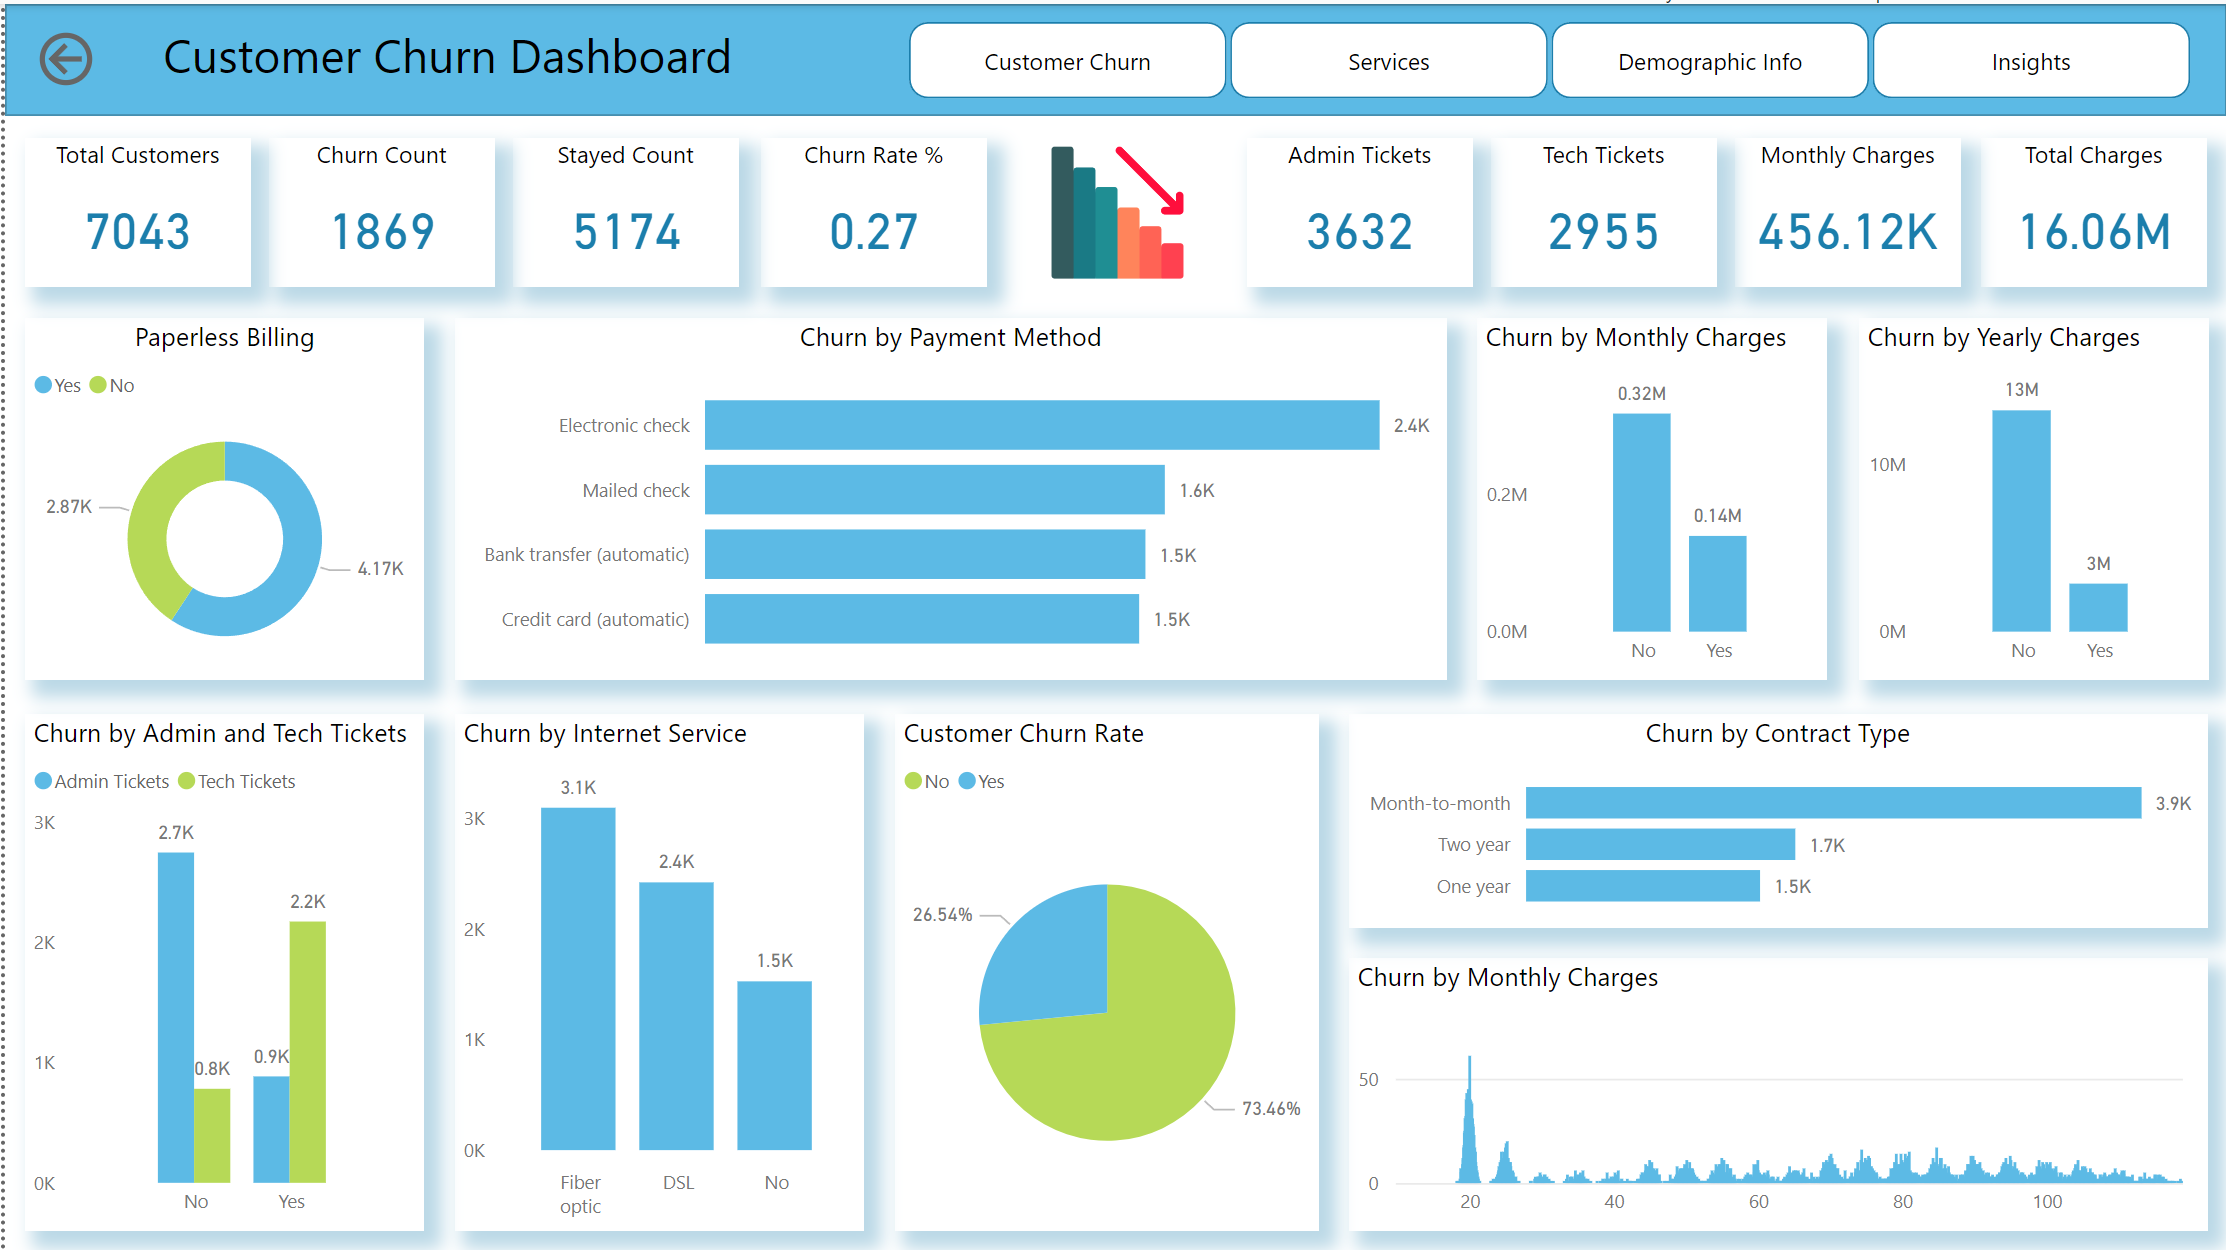

This screenshot's page, from the dashboard's own definition file:
{"tool":"powerbi","page":{"name":"Customer Churn","canvas":[1280,720],"ordinal":1},"visuals":[{"type":"shape","box":[0,0,1279.7,64.5],"z":0},{"type":"actionButton","box":[15.2,11.6,43.9,40.3],"z":1000},{"type":"textbox","box":[76.1,5.4,358.2,53.7],"z":2000},{"type":"pageNavigator","box":[521.2,9.9,738.8,44.8],"z":3000},{"type":"card","title":"Total Customers","fields":{"Values":["CountNonNull(01 Churn-Dataset.customerID)"]},"box":[11.6,77,129.9,86],"z":4000,"group":"g1"},{"type":"clusteredBarChart","title":"Churn by Contract Type","fields":{"Y":["CountNonNull(01 Churn-Dataset.Churn)"],"Category":["01 Churn-Dataset.Contract"]},"box":[773.7,409.3,494.3,123.6],"z":4000},{"type":"card","title":"Churn Count","fields":{"Values":["CountNonNull(01 Churn-Dataset.Churn)"]},"box":[152.2,77,129.9,86],"z":5000,"group":"g1"},{"type":"clusteredColumnChart","title":"Churn by Admin and Tech Tickets","fields":{"Category":["01 Churn-Dataset.Churn"],"Y":["Sum(01 Churn-Dataset.numAdminTickets)","Sum(01 Churn-Dataset.numTechTickets)"]},"box":[11.6,409.3,230.1,298.2],"z":5000},{"type":"card","title":"Stayed Count","fields":{"Values":["CountNonNull(01 Churn-Dataset.Churn)"]},"box":[292.8,77,129.9,86],"z":6000,"group":"g1"},{"type":"group","id":"g1","title":"Group 1","box":[11.6,77,1256.4,86],"z":6000},{"type":"card","title":"Churn Rate %","fields":{"Values":["01 Churn-Dataset.Churn Rate%"]},"box":[435.2,77,129.9,86],"z":7000,"group":"g1"},{"type":"clusteredBarChart","title":"Churn by Payment Method","fields":{"Y":["CountNonNull(01 Churn-Dataset.Churn)"],"Category":["01 Churn-Dataset.PaymentMethod"]},"box":[258.8,180.9,571.3,208.7],"z":7000},{"type":"card","title":"Admin Tickets","fields":{"Values":["Sum(01 Churn-Dataset.numAdminTickets)"]},"box":[715.5,77,129.9,86],"z":8000,"group":"g1"},{"type":"donutChart","title":"Paperless Billing","fields":{"Y":["CountNonNull(01 Churn-Dataset.PaperlessBilling)"],"Category":["01 Churn-Dataset.PaperlessBilling"]},"box":[11.6,180.9,230.1,208.7],"z":8000},{"type":"card","title":"Tech Tickets","fields":{"Values":["Sum(01 Churn-Dataset.numTechTickets)"]},"box":[856.1,77,129.9,86],"z":9000,"group":"g1"},{"type":"clusteredColumnChart","title":"Churn by Monthly Charges","fields":{"Category":["01 Churn-Dataset.Churn"],"Y":["Sum(01 Churn-Dataset.MonthlyCharges)"]},"box":[848.1,180.9,201.5,208.7],"z":9000},{"type":"image","box":[578.5,77,125.4,86],"z":10000,"group":"g1"},{"type":"clusteredColumnChart","title":"Churn by Yearly Charges","fields":{"Category":["01 Churn-Dataset.Churn"],"Y":["Sum(01 Churn-Dataset.TotalCharges)"]},"box":[1067.5,180.9,201.5,208.7],"z":10000},{"type":"card","title":"Monthly Charges","fields":{"Values":["Sum(01 Churn-Dataset.MonthlyCharges)"]},"box":[996.7,77,129.9,86],"z":11000,"group":"g1"},{"type":"clusteredColumnChart","title":"Churn by Internet Service","fields":{"Category":["01 Churn-Dataset.InternetService"],"Y":["CountNonNull(01 Churn-Dataset.Churn)"]},"box":[258.8,409.3,235.5,298.2],"z":11000},{"type":"card","title":"Total Charges","fields":{"Values":["Sum(01 Churn-Dataset.TotalCharges)"]},"box":[1138.2,77,129.9,86],"z":12000,"group":"g1"},{"type":"pieChart","title":"Customer Churn Rate","fields":{"Y":["CountNonNull(01 Churn-Dataset.tenure)"],"Category":["01 Churn-Dataset.Churn"]},"box":[512.2,409.3,244.5,298.2],"z":12000},{"type":"clusteredColumnChart","title":"Churn by Monthly Charges","fields":{"Category":["01 Churn-Dataset.MonthlyCharges"],"Y":["CountNonNull(01 Churn-Dataset.Churn)"]},"box":[773.7,549.9,494.3,157.6],"z":13000}]}

Visuals, with their boxes in screenshot pixels (x1, y1, x2, y2), scaled from the page's 1280x720 canvas onto the 2226x1250 screenshot:
shape: <bbox>0, 0, 2225, 112</bbox>
actionButton: <bbox>26, 20, 103, 90</bbox>
textbox: <bbox>132, 9, 755, 103</bbox>
pageNavigator: <bbox>906, 17, 2191, 95</bbox>
"Total Customers" card: <bbox>20, 134, 246, 283</bbox>
"Churn by Contract Type" clusteredBarChart: <bbox>1346, 711, 2205, 925</bbox>
"Churn Count" card: <bbox>265, 134, 491, 283</bbox>
"Churn by Admin and Tech Tickets" clusteredColumnChart: <bbox>20, 711, 420, 1228</bbox>
"Stayed Count" card: <bbox>509, 134, 735, 283</bbox>
"Group 1" group: <bbox>20, 134, 2205, 283</bbox>
"Churn Rate %" card: <bbox>757, 134, 983, 283</bbox>
"Churn by Payment Method" clusteredBarChart: <bbox>450, 314, 1444, 676</bbox>
"Admin Tickets" card: <bbox>1244, 134, 1470, 283</bbox>
"Paperless Billing" donutChart: <bbox>20, 314, 420, 676</bbox>
"Tech Tickets" card: <bbox>1489, 134, 1715, 283</bbox>
"Churn by Monthly Charges" clusteredColumnChart: <bbox>1475, 314, 1825, 676</bbox>
image: <bbox>1006, 134, 1224, 283</bbox>
"Churn by Yearly Charges" clusteredColumnChart: <bbox>1856, 314, 2207, 676</bbox>
"Monthly Charges" card: <bbox>1733, 134, 1959, 283</bbox>
"Churn by Internet Service" clusteredColumnChart: <bbox>450, 711, 860, 1228</bbox>
"Total Charges" card: <bbox>1979, 134, 2205, 283</bbox>
"Customer Churn Rate" pieChart: <bbox>891, 711, 1316, 1228</bbox>
"Churn by Monthly Charges" clusteredColumnChart: <bbox>1346, 955, 2205, 1228</bbox>
